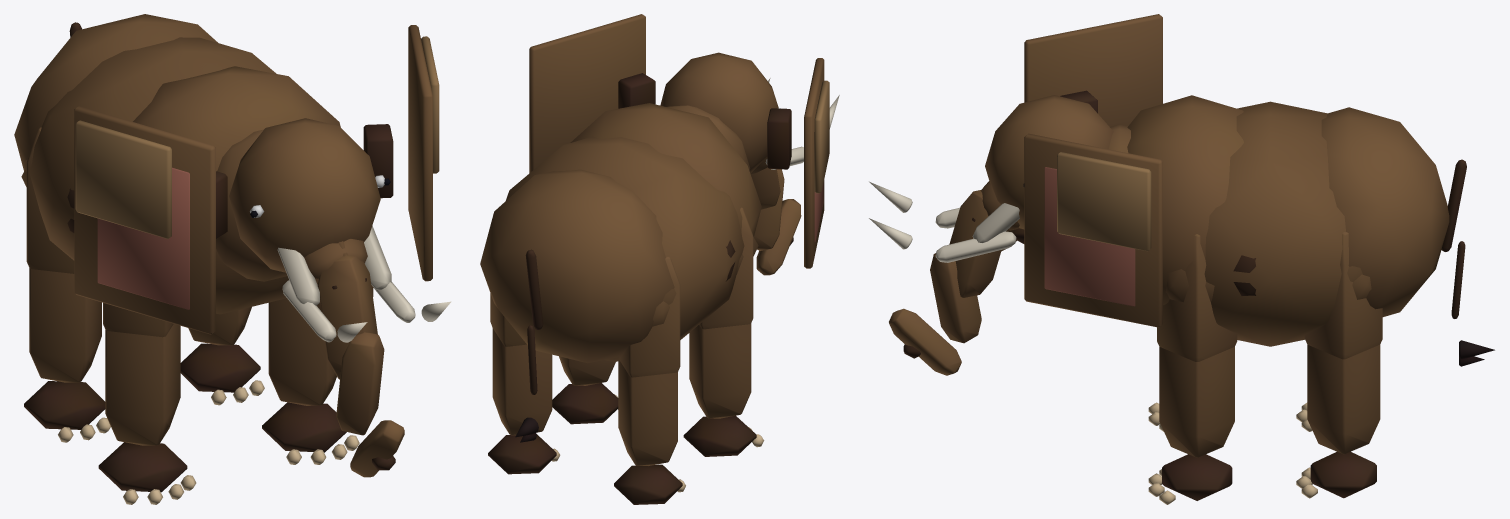
File: elephant.glb
The picture shows the model from 3 angles, left to right: view 1: azimuth 30°, elevation 25°; view 2: azimuth 150°, elevation 25°; view 3: azimuth 270°, elevation 25°; orthographic projection. The views are drawn at different scales.
Visible parts, largest first — view 1: elephant; view 2: elephant; view 3: elephant.
Boxes of the visible parts, x1,y1,x2,y2 form: elephant: [14, 14, 451, 504]; elephant: [480, 14, 839, 504]; elephant: [869, 14, 1494, 504].
Size of the model in its own units: 2.77 by 3.11 by 4.79.
